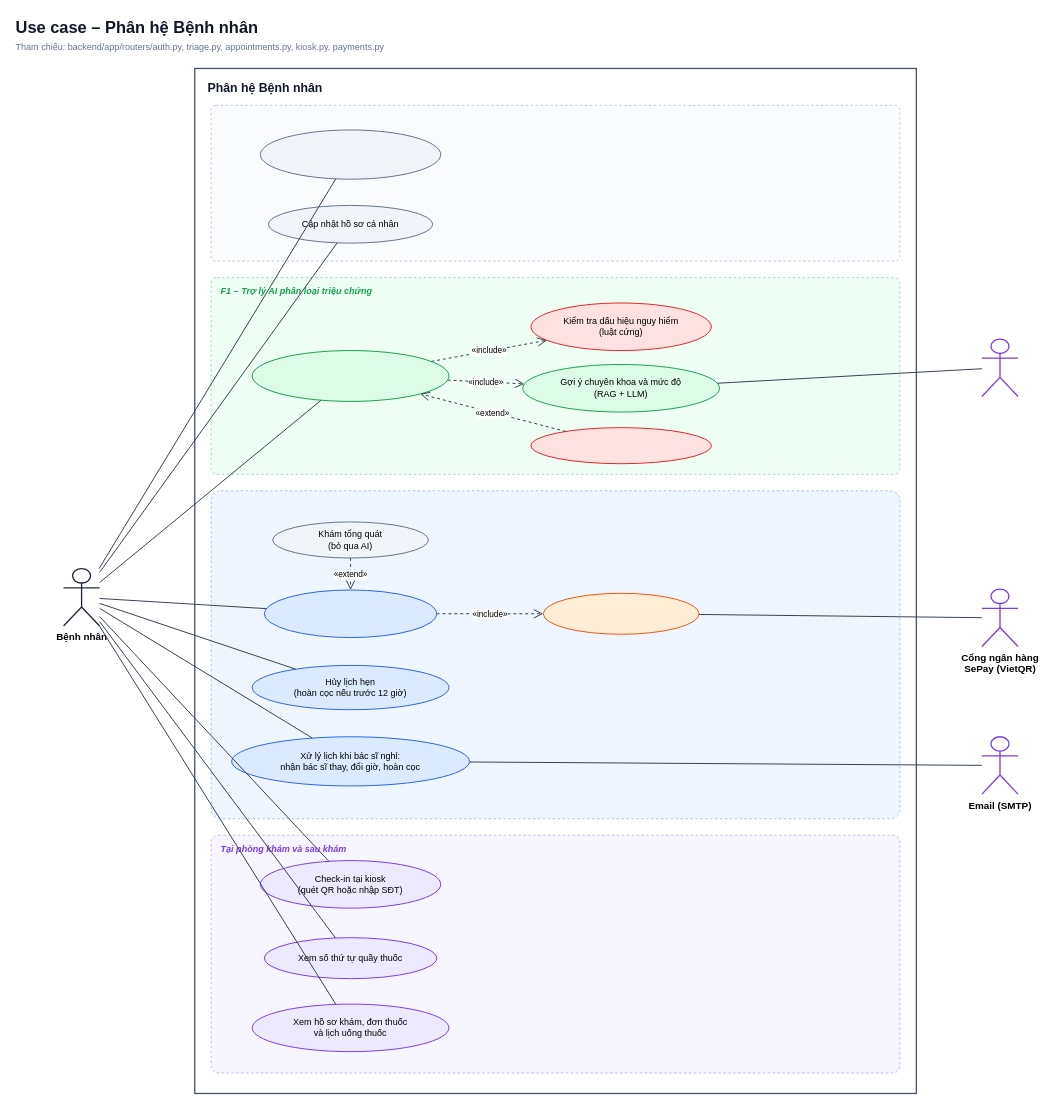
Image size: 1053x1108. Some labels were removed from this diagram. The shapes that lost their labels are listed below. From the top down, each one's box as (x1, y1, x2, y2) in pixels, then its label:
(259, 129, 441, 179): Đăng ký / đăng nhập (SĐT + mật khẩu)
(210, 105, 900, 261): Tài khoản
(251, 350, 449, 401): Trò chuyện mô tả triệu chứng với trợ lý AI
(981, 338, 1018, 397): LLM Qwen (OpenAI client)
(530, 427, 711, 464): Xác nhận đã đọc cảnh báo cấp cứu
(264, 589, 437, 638): Đặt lịch khám (giữ chỗ 5 phút)
(542, 592, 699, 634): Đặt cọc qua VietQR
(210, 490, 900, 819): F2 – Đặt lịch, đặt cọc, xử lý khi bác sĩ nghỉ
